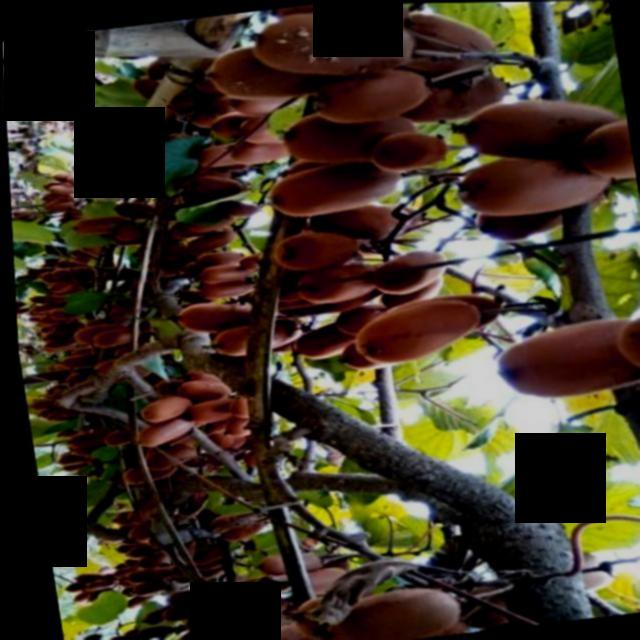kiwi: (247, 4, 422, 85), (488, 314, 640, 407), (451, 146, 615, 225), (457, 89, 626, 165), (342, 294, 486, 367), (276, 101, 422, 172), (259, 156, 406, 221), (309, 63, 437, 129), (317, 582, 459, 640), (268, 224, 359, 274), (198, 316, 302, 359), (367, 247, 452, 299), (291, 260, 379, 307), (166, 295, 261, 337), (283, 323, 356, 362), (130, 415, 195, 448), (132, 394, 191, 424), (180, 226, 241, 254), (185, 395, 237, 425), (87, 324, 141, 351), (173, 378, 229, 403), (199, 261, 256, 285), (71, 213, 128, 237), (197, 279, 255, 300)
